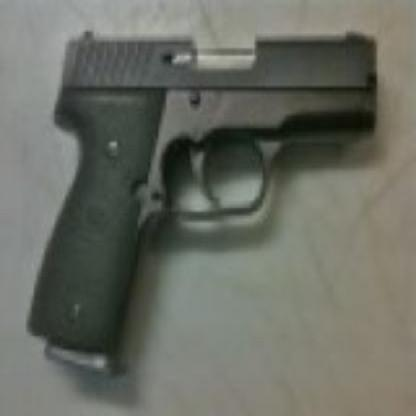pistol: (34, 21, 374, 363)
